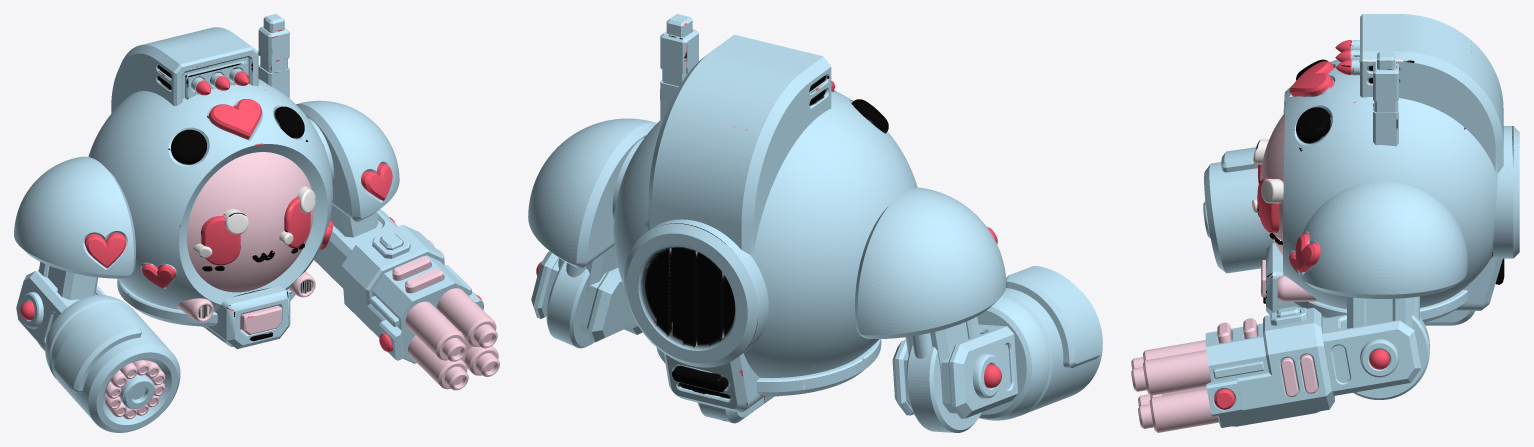
Rendered from enemy_robot_withTexture.fbx.
3 renders of one model, left to right at view 1: azimuth 30°, elevation 25°; view 2: azimuth 150°, elevation 25°; view 3: azimuth 270°, elevation 25°, orthographic. The views are drawn at different scales.
Parts seen in each view (by area): view 1: uploads_files_5509131_Body, uploads_files_5509131_Right_Laser, uploads_files_5509131_Left_Rockets; view 2: uploads_files_5509131_Body, uploads_files_5509131_Right_Laser, uploads_files_5509131_Left_Rockets; view 3: uploads_files_5509131_Body, uploads_files_5509131_Left_Rockets, uploads_files_5509131_Right_Laser.
Boxes of the visible parts, box(x1,y1,x2,y2) form: uploads_files_5509131_Body: box(88, 14, 334, 348); uploads_files_5509131_Right_Laser: box(14, 156, 180, 432); uploads_files_5509131_Left_Rockets: box(296, 100, 499, 390); uploads_files_5509131_Body: box(612, 14, 917, 423); uploads_files_5509131_Right_Laser: box(855, 187, 1102, 432); uploads_files_5509131_Left_Rockets: box(528, 118, 656, 348); uploads_files_5509131_Body: box(1252, 14, 1519, 325); uploads_files_5509131_Left_Rockets: box(1131, 181, 1467, 432); uploads_files_5509131_Right_Laser: box(1203, 147, 1274, 273).
Size of the model in its own units: 3790 by 2793 by 2979.
3 materials, 3 textured.
